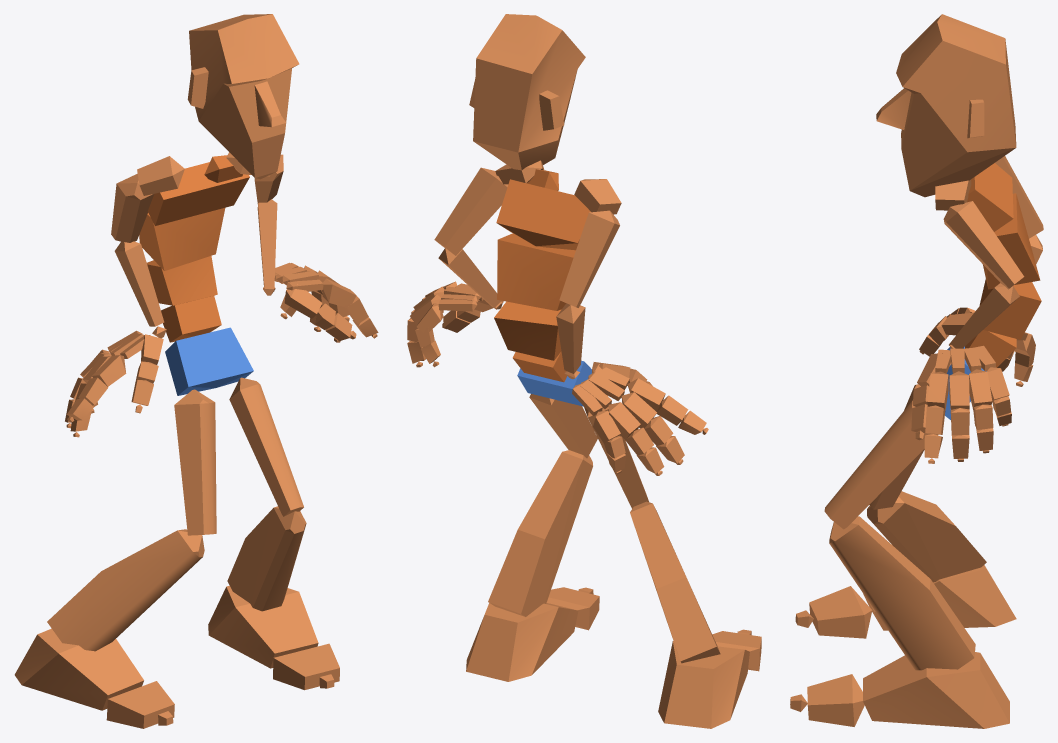
Rendered from personaje37.obj.
3 views of the same model, side by side, from view 1: azimuth 30°, elevation 25°; view 2: azimuth 150°, elevation 25°; view 3: azimuth 270°, elevation 25° (orthographic). The views are drawn at different scales.
Parts seen in each view (by area): view 1: BOPED_Head, BOPED_R_leg, BOPED_R_foot, BOPED_R_foot01, BOPED_L_leg, BOPED_R_legup, BOPED_L_legup, Bone01, Bone04, Bone05, Bone03, BOPED_R_foot_toe01 (+11 smaller); view 2: BOPED_Head, BOPED_L_leg, BOPED_R_foot01, BOPED_R_foot, BOPED_R_leg, Bone05, Bone04, BOPED_L_arm_upper, Bone03, BOPED_R_arm_upper, BOPED_L_legup, BOPED_R_arm_fore (+13 smaller); view 3: BOPED_Head, BOPED_L_leg, BOPED_R_foot01, BOPED_R_leg, BOPED_L_legup, BOPED_R_foot, BOPED_L_arm_upper, BOPED_R_foot_toe01, BOPED_R_foot_toe04, Bone05, Bone04, Bone03 (+13 smaller).
Boxes of the visible parts, box(x1,y1,x2,y2) form: BOPED_Head: box(187, 14, 299, 179); BOPED_R_leg: box(47, 529, 204, 651); BOPED_R_foot: box(14, 628, 143, 710); BOPED_R_foot01: box(208, 585, 318, 668); BOPED_L_leg: box(227, 506, 306, 611); BOPED_R_legup: box(174, 389, 216, 535); BOPED_L_legup: box(229, 377, 303, 516); Bone01: box(165, 327, 253, 395); Bone04: box(139, 208, 225, 270); Bone05: box(147, 162, 249, 225); Bone03: box(147, 256, 217, 305); BOPED_R_foot_toe01: box(106, 681, 174, 728); BOPED_Head: box(469, 14, 585, 170); BOPED_L_leg: box(488, 450, 592, 616); BOPED_R_foot01: box(466, 603, 578, 681); BOPED_R_foot: box(658, 641, 749, 728); BOPED_R_leg: box(630, 501, 720, 663); Bone05: box(496, 179, 590, 250); Bone04: box(497, 233, 575, 310); BOPED_L_arm_upper: box(434, 167, 508, 255); Bone03: box(494, 301, 561, 360); BOPED_R_arm_upper: box(559, 210, 619, 307); BOPED_L_legup: box(529, 394, 597, 458); BOPED_R_arm_fore: box(556, 303, 585, 373); BOPED_Head: box(876, 14, 1016, 197); BOPED_L_leg: box(829, 516, 975, 670); BOPED_R_foot01: box(863, 652, 1009, 728); BOPED_R_leg: box(867, 491, 986, 582); BOPED_L_legup: box(824, 400, 937, 529); BOPED_R_foot: box(863, 565, 1016, 630); BOPED_L_arm_upper: box(943, 201, 1024, 289); BOPED_R_foot_toe01: box(809, 586, 872, 638); BOPED_R_foot_toe04: box(807, 674, 864, 726); Bone05: box(967, 163, 1013, 231); Bone04: box(983, 193, 1040, 289); Bone03: box(979, 279, 1041, 339).
Bounding box in the file's own units: 94.19 × 169 × 56.95.
